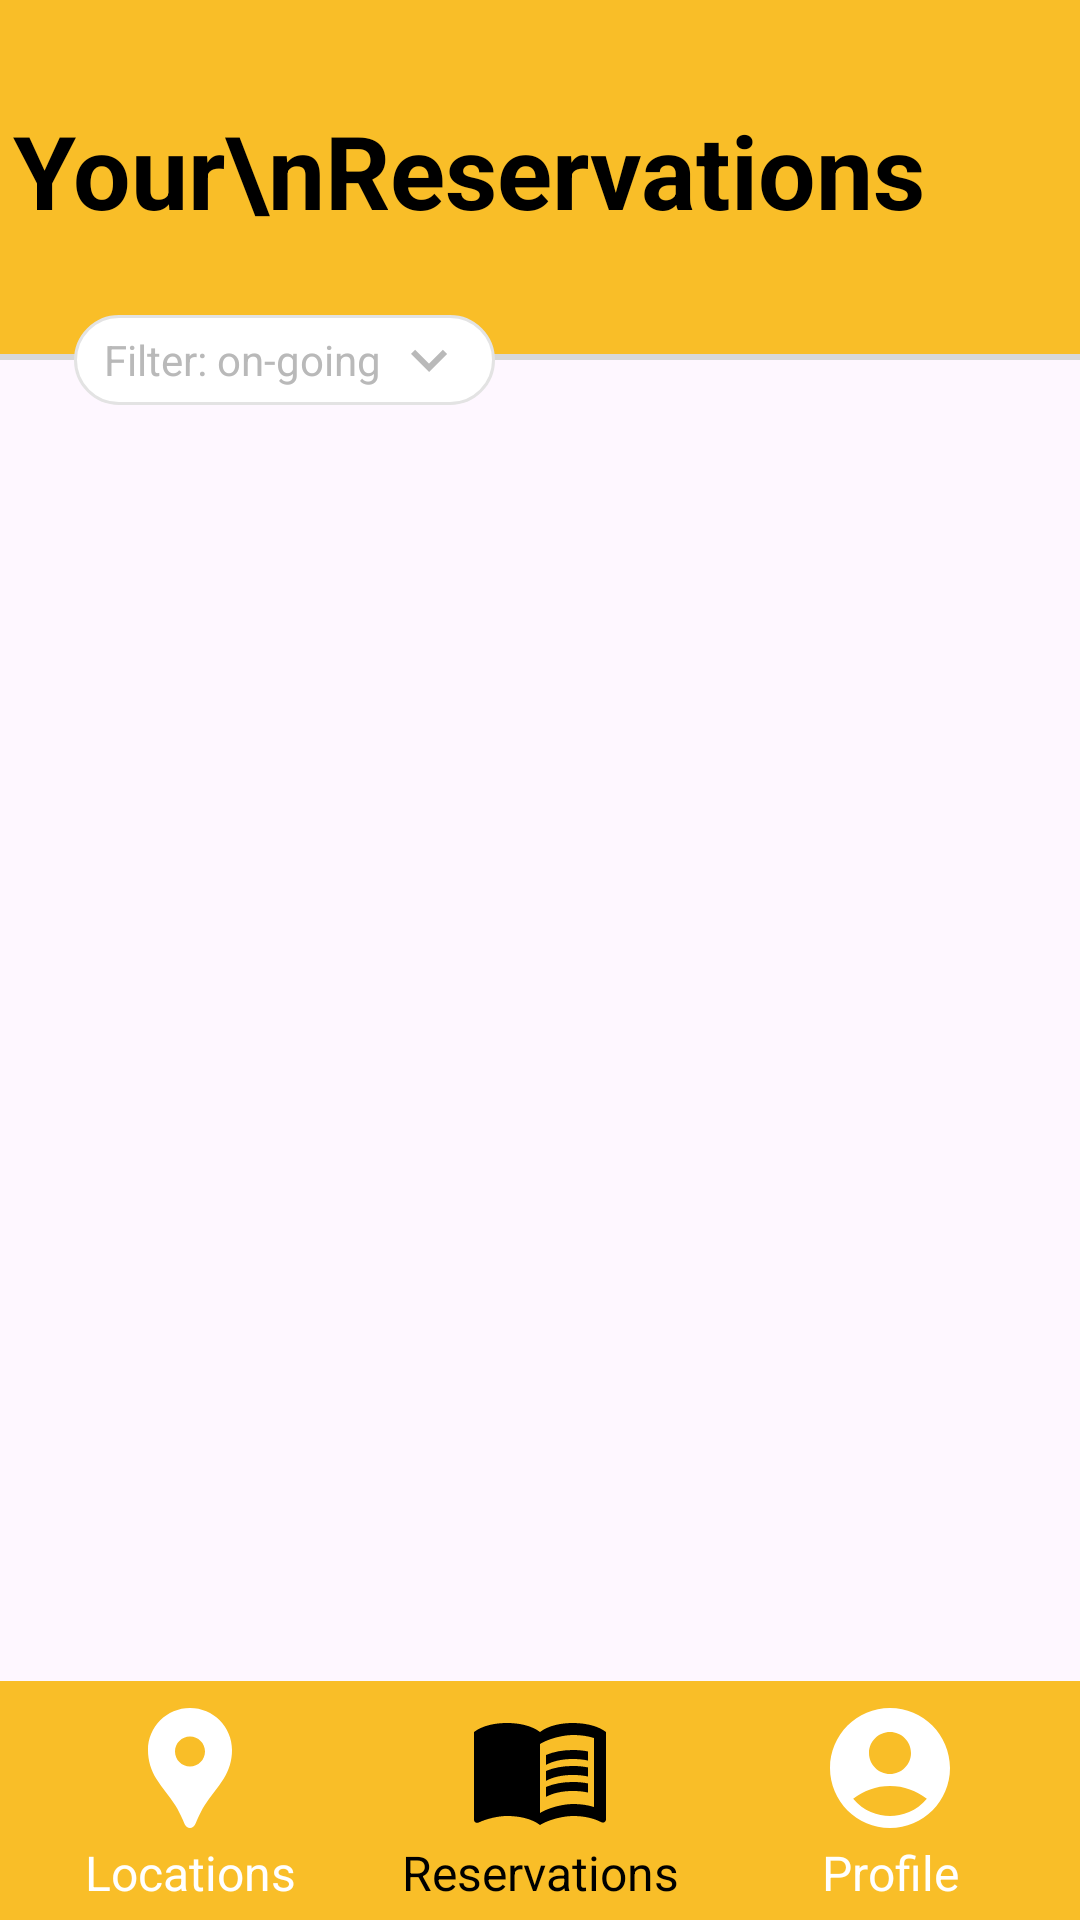

Named icons in this screenshot (1080 x 1920) and their bounding boxes, (x1, y1, x2, y2):
account circle: (830, 1708, 950, 1828)
book: (474, 1723, 606, 1825)
keyboard arrow down: (411, 350, 447, 372)
location pin: (148, 1708, 232, 1828)
